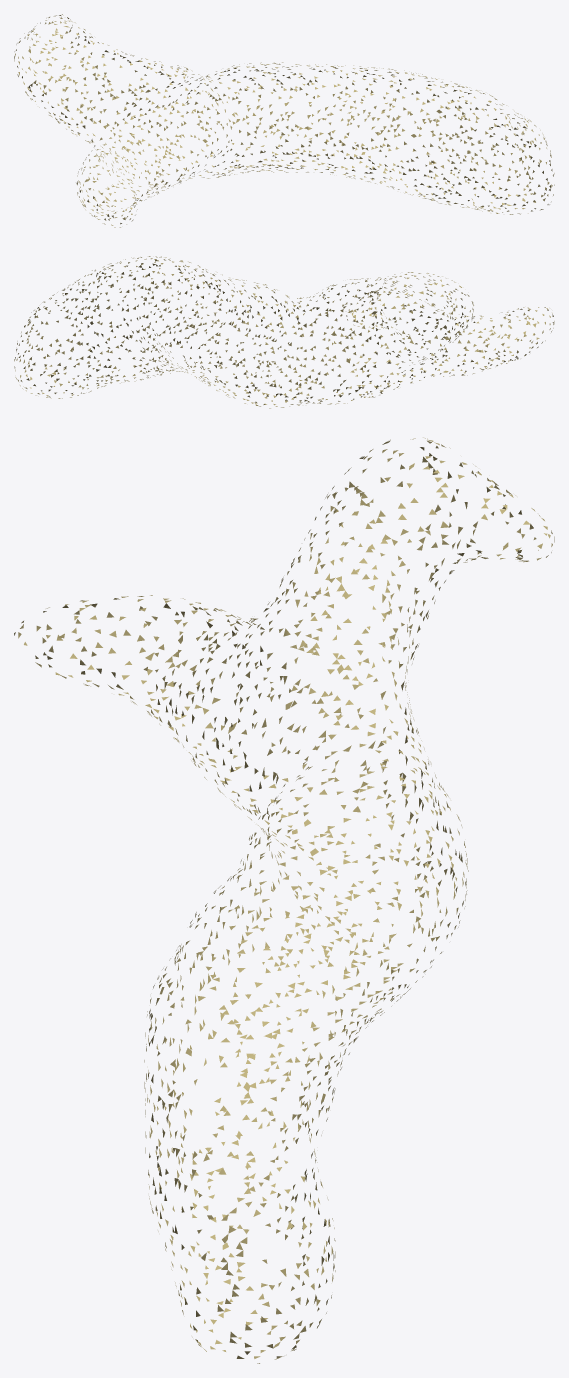
File: morph_008.glb
3 views of the same model, one above another, from view 1: azimuth 30°, elevation 25°; view 2: azimuth 150°, elevation 25°; view 3: azimuth 270°, elevation 25° (orthographic). The views are drawn at different scales.
Size of the model in its own units: 102 by 50.53 by 49.81.
